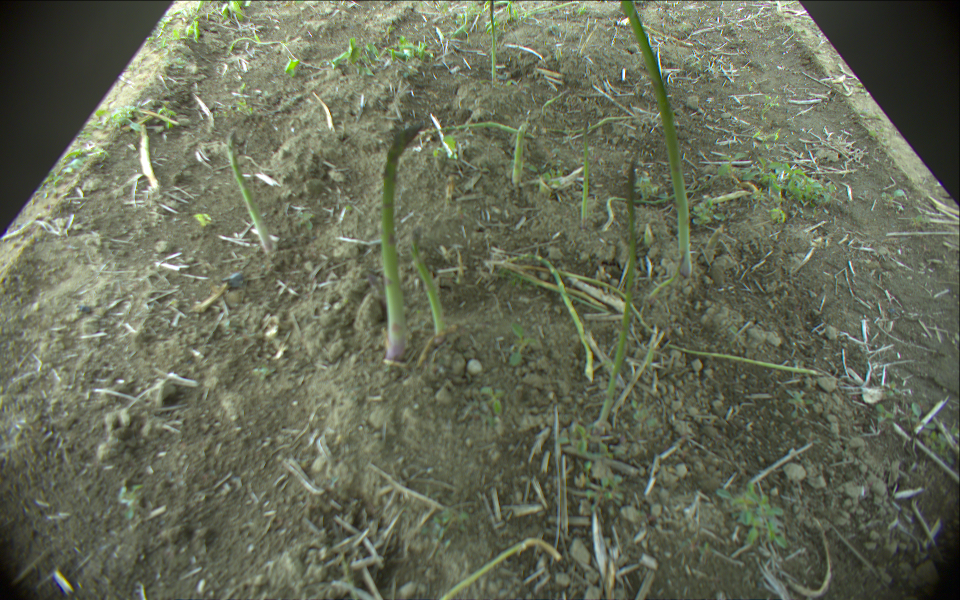aspa: (618, 1, 694, 276), (504, 253, 594, 379), (507, 263, 656, 334), (378, 123, 422, 362), (602, 165, 638, 435), (435, 536, 563, 600), (226, 129, 274, 255), (673, 345, 821, 375), (409, 225, 446, 340), (417, 121, 531, 138), (578, 121, 591, 221), (485, 1, 498, 82), (512, 123, 526, 184)
